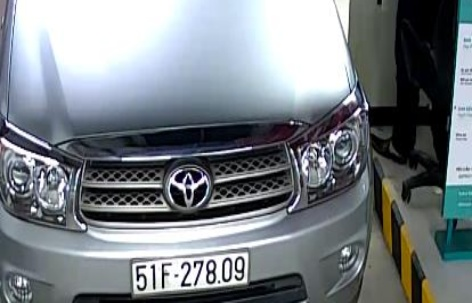plate: (135, 255, 246, 294)
